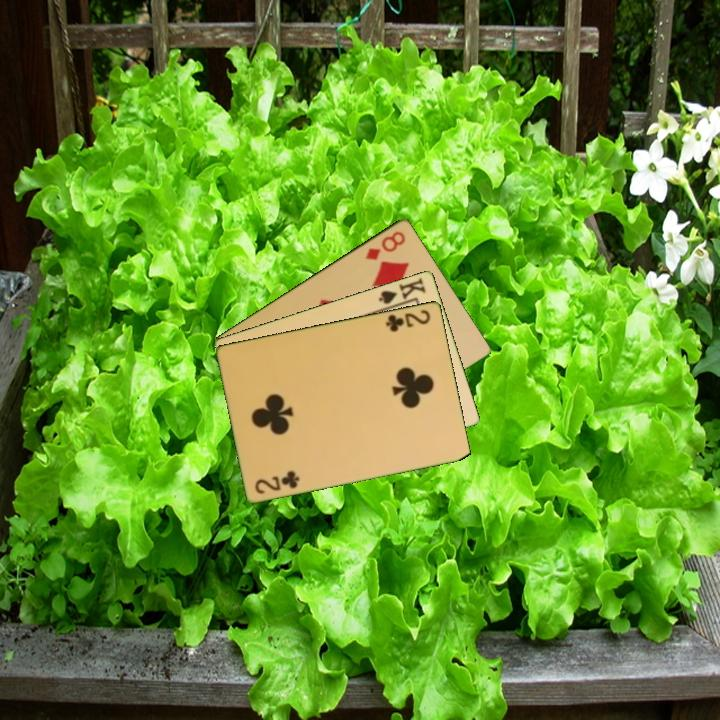2c: (382, 305, 433, 334), (252, 468, 303, 497)
8d: (361, 227, 409, 263)
Ks: (375, 274, 429, 307)
